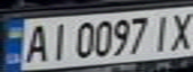0: (72, 18, 96, 60), (93, 17, 115, 59)
7: (127, 13, 154, 55)
9: (112, 16, 133, 57)
A: (18, 20, 51, 64)
I: (45, 19, 72, 62), (148, 11, 175, 53)
X: (166, 8, 193, 52)
